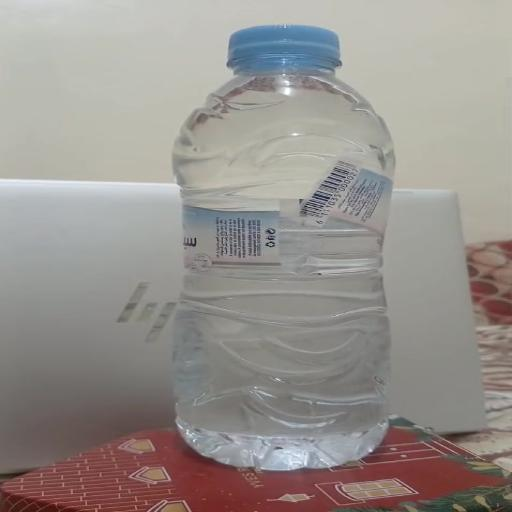bouteille conformite: (139, 36, 424, 466)
